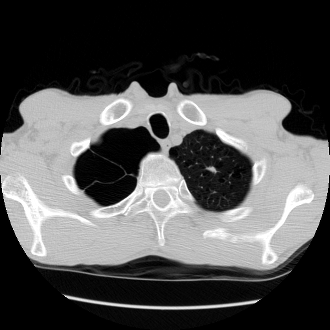nodule: (208, 165, 216, 173)
